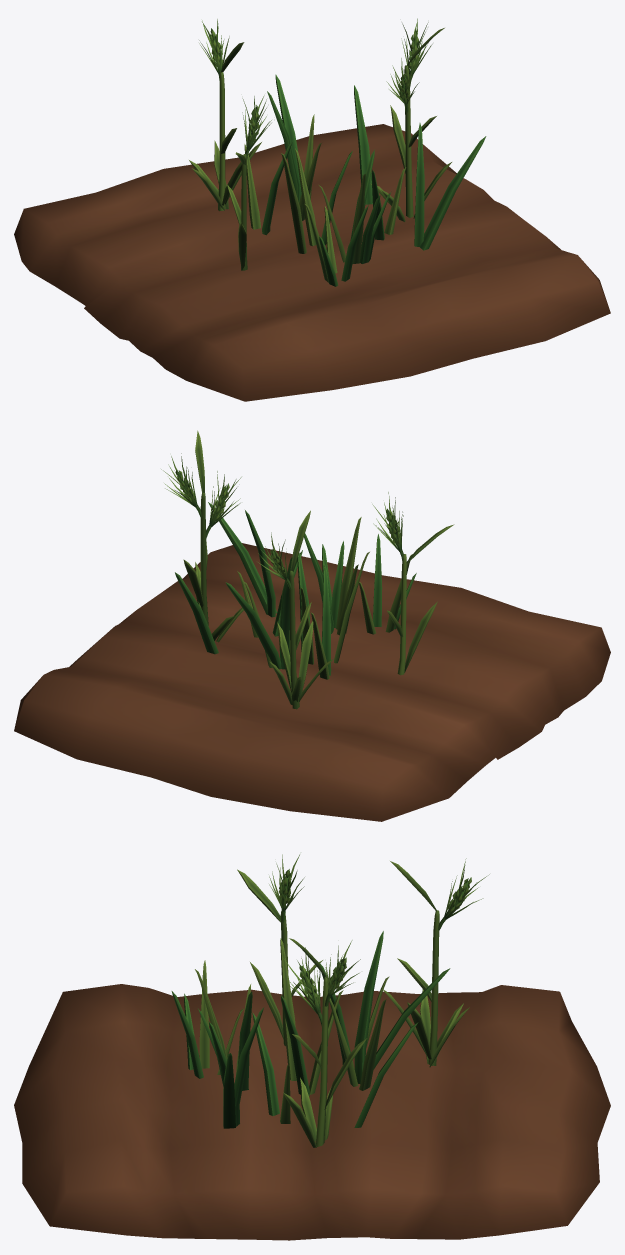
The model's file is SM_PlantSoil_Barley_Lv2.fbx.
The picture shows the model from 3 angles, top to bottom: view 1: azimuth 30°, elevation 25°; view 2: azimuth 150°, elevation 25°; view 3: azimuth 270°, elevation 25°; orthographic projection. The views are drawn at different scales.
Parts seen in each view (by area): view 1: SM_PlantSoil_Barley_Lv2; view 2: SM_PlantSoil_Barley_Lv2; view 3: SM_PlantSoil_Barley_Lv2.
Part boxes in pixels (<box>): SM_PlantSoil_Barley_Lv2: <box>14,18,610,401</box>; SM_PlantSoil_Barley_Lv2: <box>14,430,610,821</box>; SM_PlantSoil_Barley_Lv2: <box>14,854,610,1240</box>.
Size of the model in its own units: 96.14 by 48.87 by 103.
